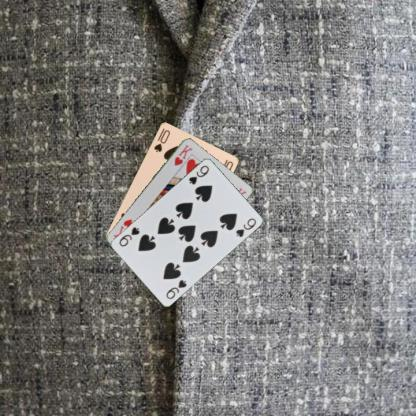10s: (151, 125, 171, 153)
9s: (186, 162, 210, 186), (163, 277, 188, 300)
Kh: (172, 142, 194, 167)
